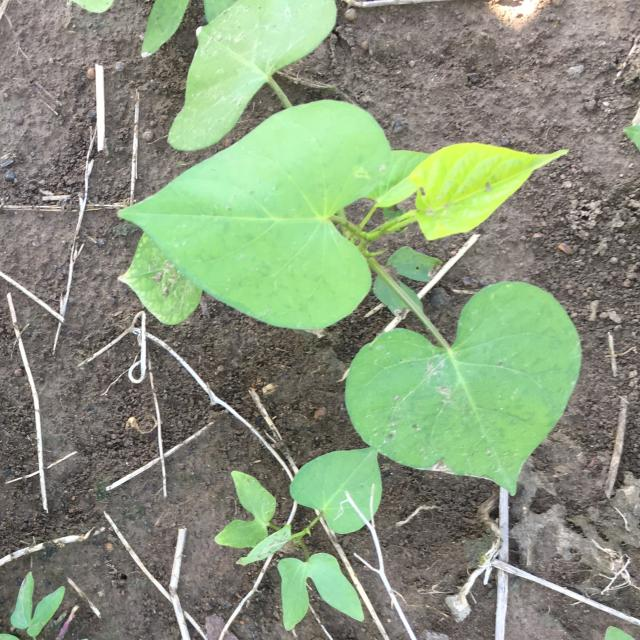MorningGlory: (116, 0, 582, 496), (214, 448, 381, 632), (0, 572, 65, 640)
